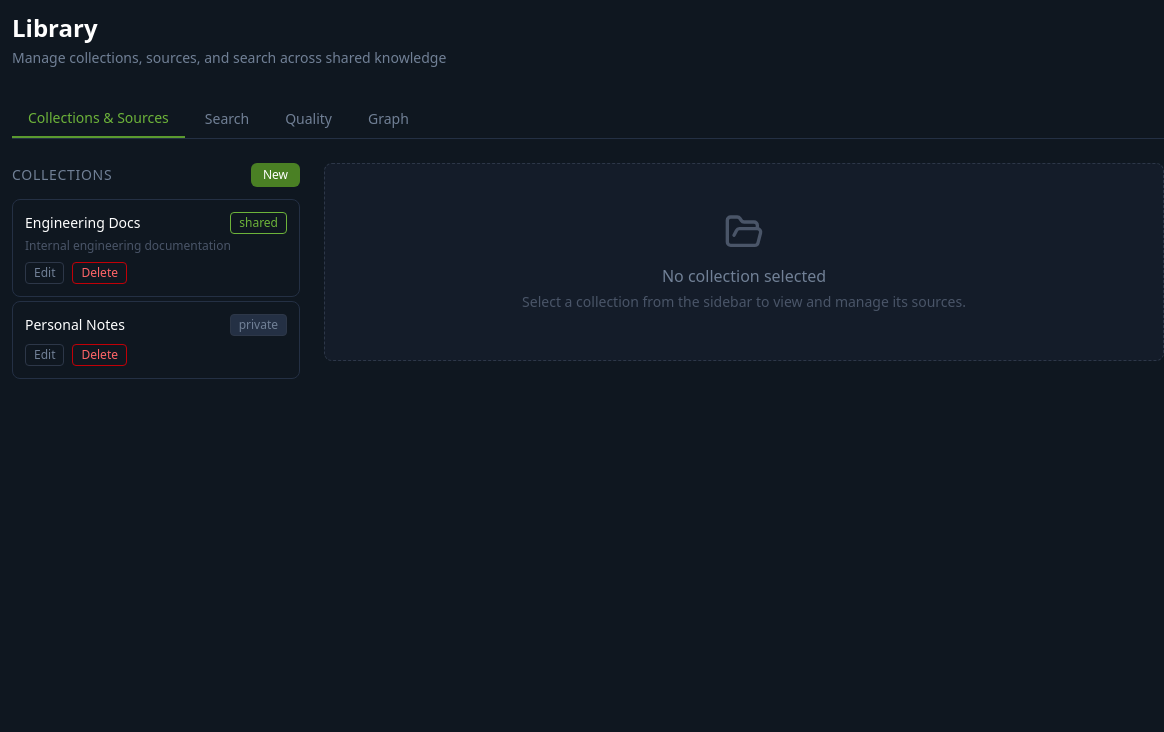
it: SharedKnowledgeClient › shows create collection form when New button clicked
Expected: the text "Engineering Docs" is shown, [25,213,140,233]
Click the button "New" at [275, 175], box [251,163,300,187]
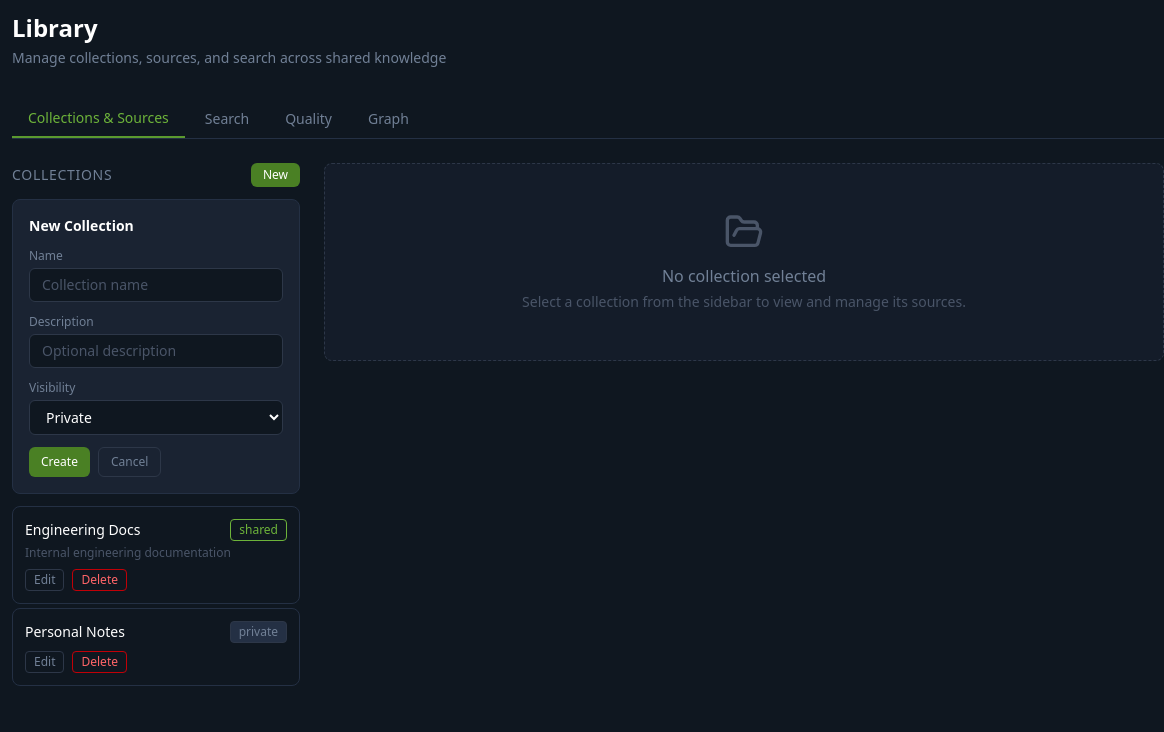
Expected: the heading "New Collection" is shown, [29,216,134,235]
Expected: the field with placeholder "Collection name" is shown, [29,268,283,302]
